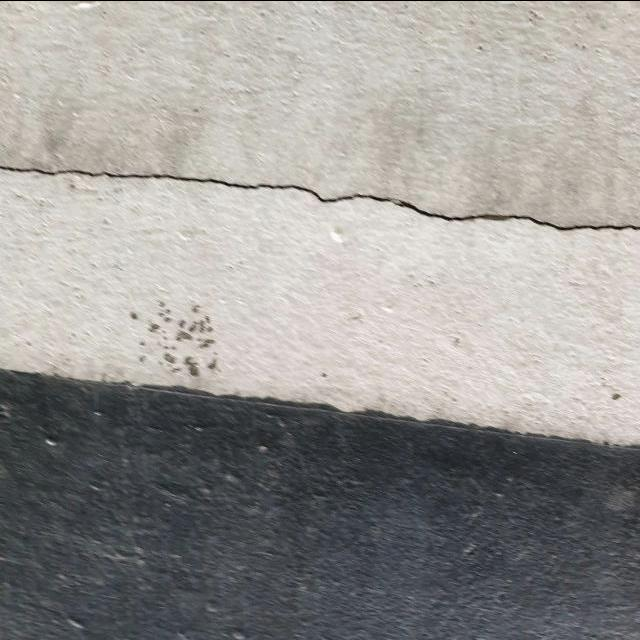SurfaceCrack: (0, 349, 639, 502)
